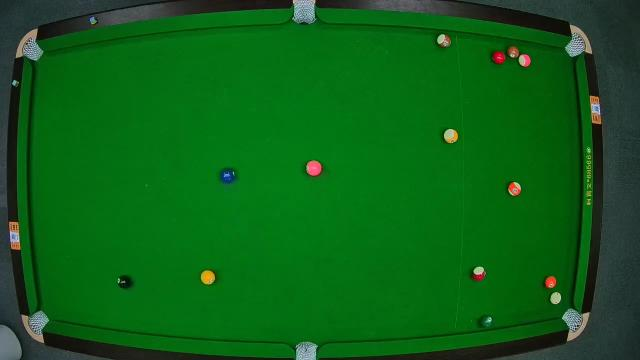bag1: (20, 40, 40, 61)
bag2: (292, 1, 316, 25)
bag3: (566, 35, 588, 55)
bag4: (28, 311, 48, 333)
bag5: (293, 340, 319, 360)
bag6: (562, 308, 582, 332)
ball0: (550, 293, 564, 305)
ball1: (200, 269, 216, 285)
ball11: (470, 266, 486, 280)
ball12: (517, 52, 531, 68)
ball13: (506, 180, 522, 196)
ball15: (436, 32, 452, 48)
ball2: (220, 168, 236, 184)
ball3: (492, 51, 506, 65)
ball4: (306, 160, 322, 176)
ball5: (544, 274, 556, 288)
ball6: (479, 313, 497, 329)
ball7: (508, 45, 522, 59)
ball8: (118, 274, 134, 288)
ball9: (444, 129, 461, 145)
